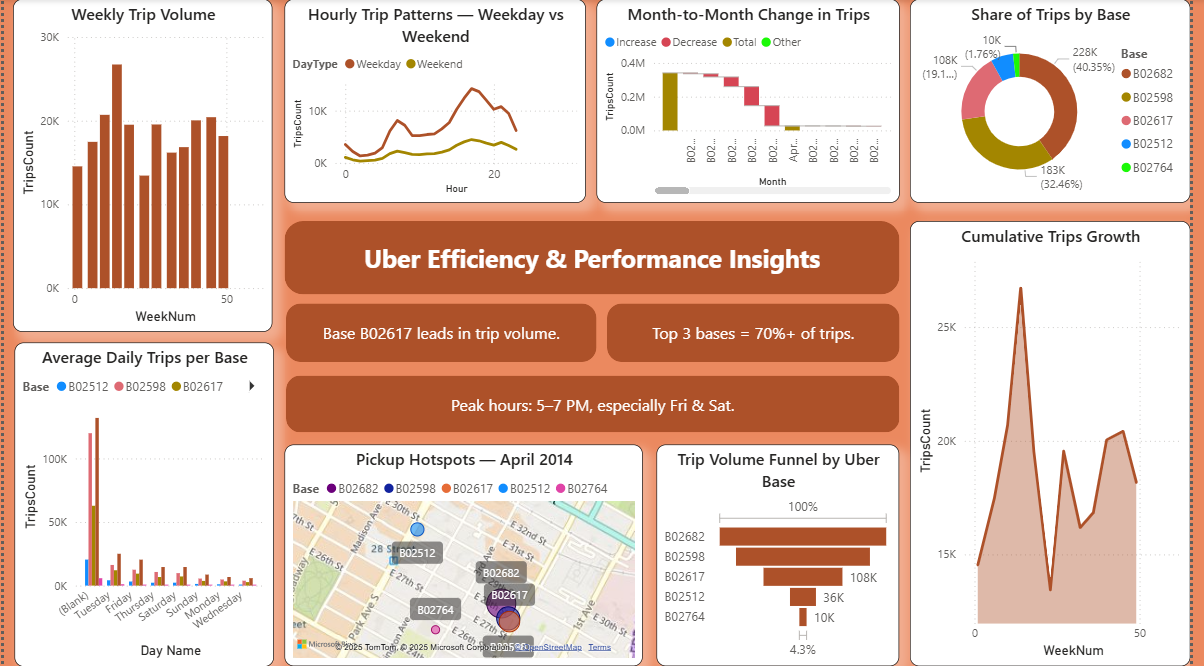

Layout of this report page (visuals, bound fields, positions):
{"tool":"powerbi","page":{"name":"Page 3","canvas":[1280,720],"ordinal":2},"visuals":[{"type":"columnChart","title":"Weekly Trip Volume","fields":{"Category":["uber-raw-data-apr14.WeekNum"],"Y":["uber-raw-data-apr14.TripsCount"]},"box":[9.7,0,280.1,359.5],"z":0},{"type":"clusteredColumnChart","title":"Average Daily Trips per Base","fields":{"Category":["uber-raw-data-apr14.Day Name"],"Series":["uber-raw-data-apr14.Base"],"Y":["uber-raw-data-apr14.TripsCount"]},"box":[11.3,370.8,280.1,349.8],"z":1},{"type":"lineChart","title":"Hourly Trip Patterns — Weekday vs Weekend","fields":{"Category":["uber-raw-data-apr14.Hour"],"Series":["uber-raw-data-apr14.DayType"],"Y":["uber-raw-data-apr14.TripsCount"]},"box":[302.8,0,325.5,220.2],"z":2},{"type":"donutChart","title":"Share of Trips by Base","fields":{"Category":["uber-raw-data-apr14.Base"],"Y":["uber-raw-data-apr14.TripsCount"]},"box":[978,0,302.8,220.2],"z":3},{"type":"areaChart","title":"Cumulative Trips Growth","fields":{"Category":["uber-raw-data-apr14.WeekNum"],"Y":["uber-raw-data-apr14.TripsCount"]},"box":[978,239.6,302.8,480.9],"z":4},{"type":"map","title":"Pickup Hotspots — April 2014","fields":{"Category":["uber-raw-data-apr14.Base"],"Series":["uber-raw-data-apr14.Base"],"Y":["Avg(uber-raw-data-apr14.Lat)"],"X":["Avg(uber-raw-data-apr14.Lon)"],"Size":["uber-raw-data-apr14.TripsCount"]},"box":[302.8,480.9,387,239.6],"z":5},{"type":"funnel","title":"Trip Volume Funnel by Uber Base","fields":{"Category":["uber-raw-data-apr14.Base"],"Y":["uber-raw-data-apr14.TripsCount"]},"box":[704.4,480.9,262.3,239.6],"z":6},{"type":"waterfallChart","title":"Month-to-Month Change in Trips","fields":{"Category":["uber-raw-data-apr14.Month"],"Y":["uber-raw-data-apr14.TripsCount"],"Breakdown":["uber-raw-data-apr14.Base"]},"box":[639.6,0,327.1,220.2],"z":7},{"type":"shape","box":[302.8,239.6,663.9,79.3],"z":8},{"type":"shape","box":[304.4,328.7,335.2,63.1],"z":9},{"type":"shape","box":[304.4,406.4,662.3,61.5],"z":10},{"type":"shape","box":[650.9,328.7,315.7,63.1],"z":11}]}

Visuals, with their boxes in screenshot pixels (x1, y1, x2, y2), scaled from the page's 1280x720 canvas onto the 1204x666 screenshot:
"Weekly Trip Volume" columnChart: Rect(9, 0, 273, 333)
"Average Daily Trips per Base" clusteredColumnChart: Rect(11, 343, 274, 665)
"Hourly Trip Patterns — Weekday vs Weekend" lineChart: Rect(285, 0, 591, 204)
"Share of Trips by Base" donutChart: Rect(920, 0, 1203, 204)
"Cumulative Trips Growth" areaChart: Rect(920, 222, 1203, 665)
"Pickup Hotspots — April 2014" map: Rect(285, 445, 649, 665)
"Trip Volume Funnel by Uber Base" funnel: Rect(663, 445, 909, 665)
"Month-to-Month Change in Trips" waterfallChart: Rect(602, 0, 909, 204)
shape: Rect(285, 222, 909, 295)
shape: Rect(286, 304, 602, 362)
shape: Rect(286, 376, 909, 433)
shape: Rect(612, 304, 909, 362)
